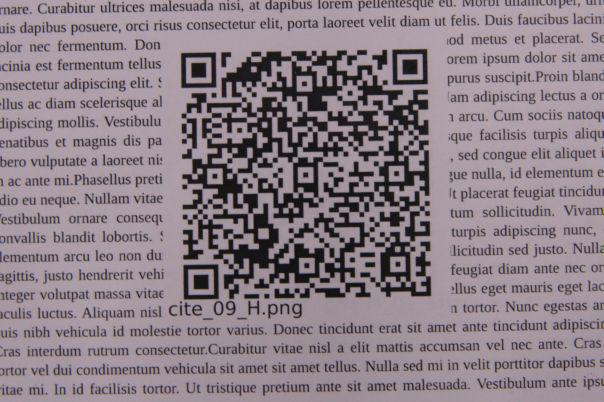Finder pattern: (390, 43, 432, 88), (180, 261, 224, 303), (177, 48, 220, 89)
